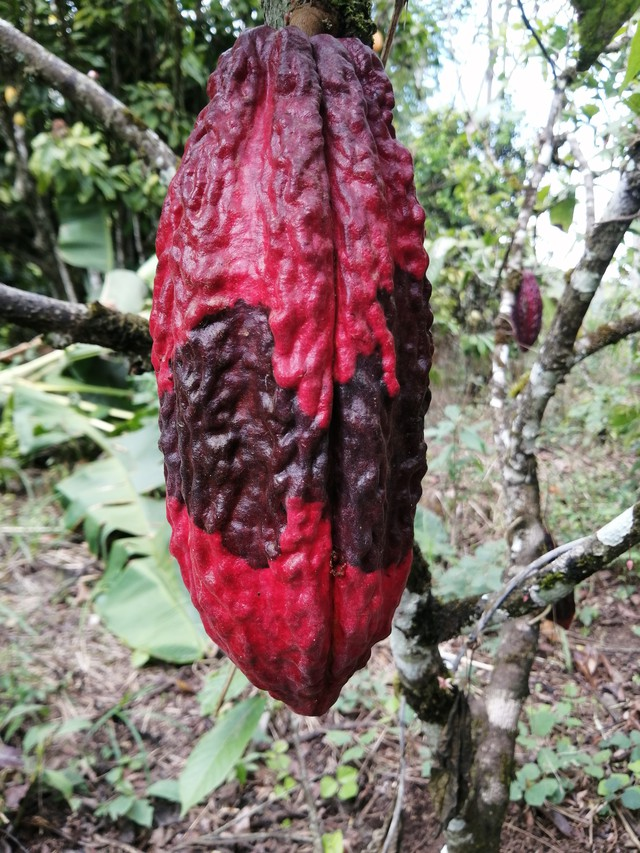carmenta foraseminis: (143, 17, 438, 724)
